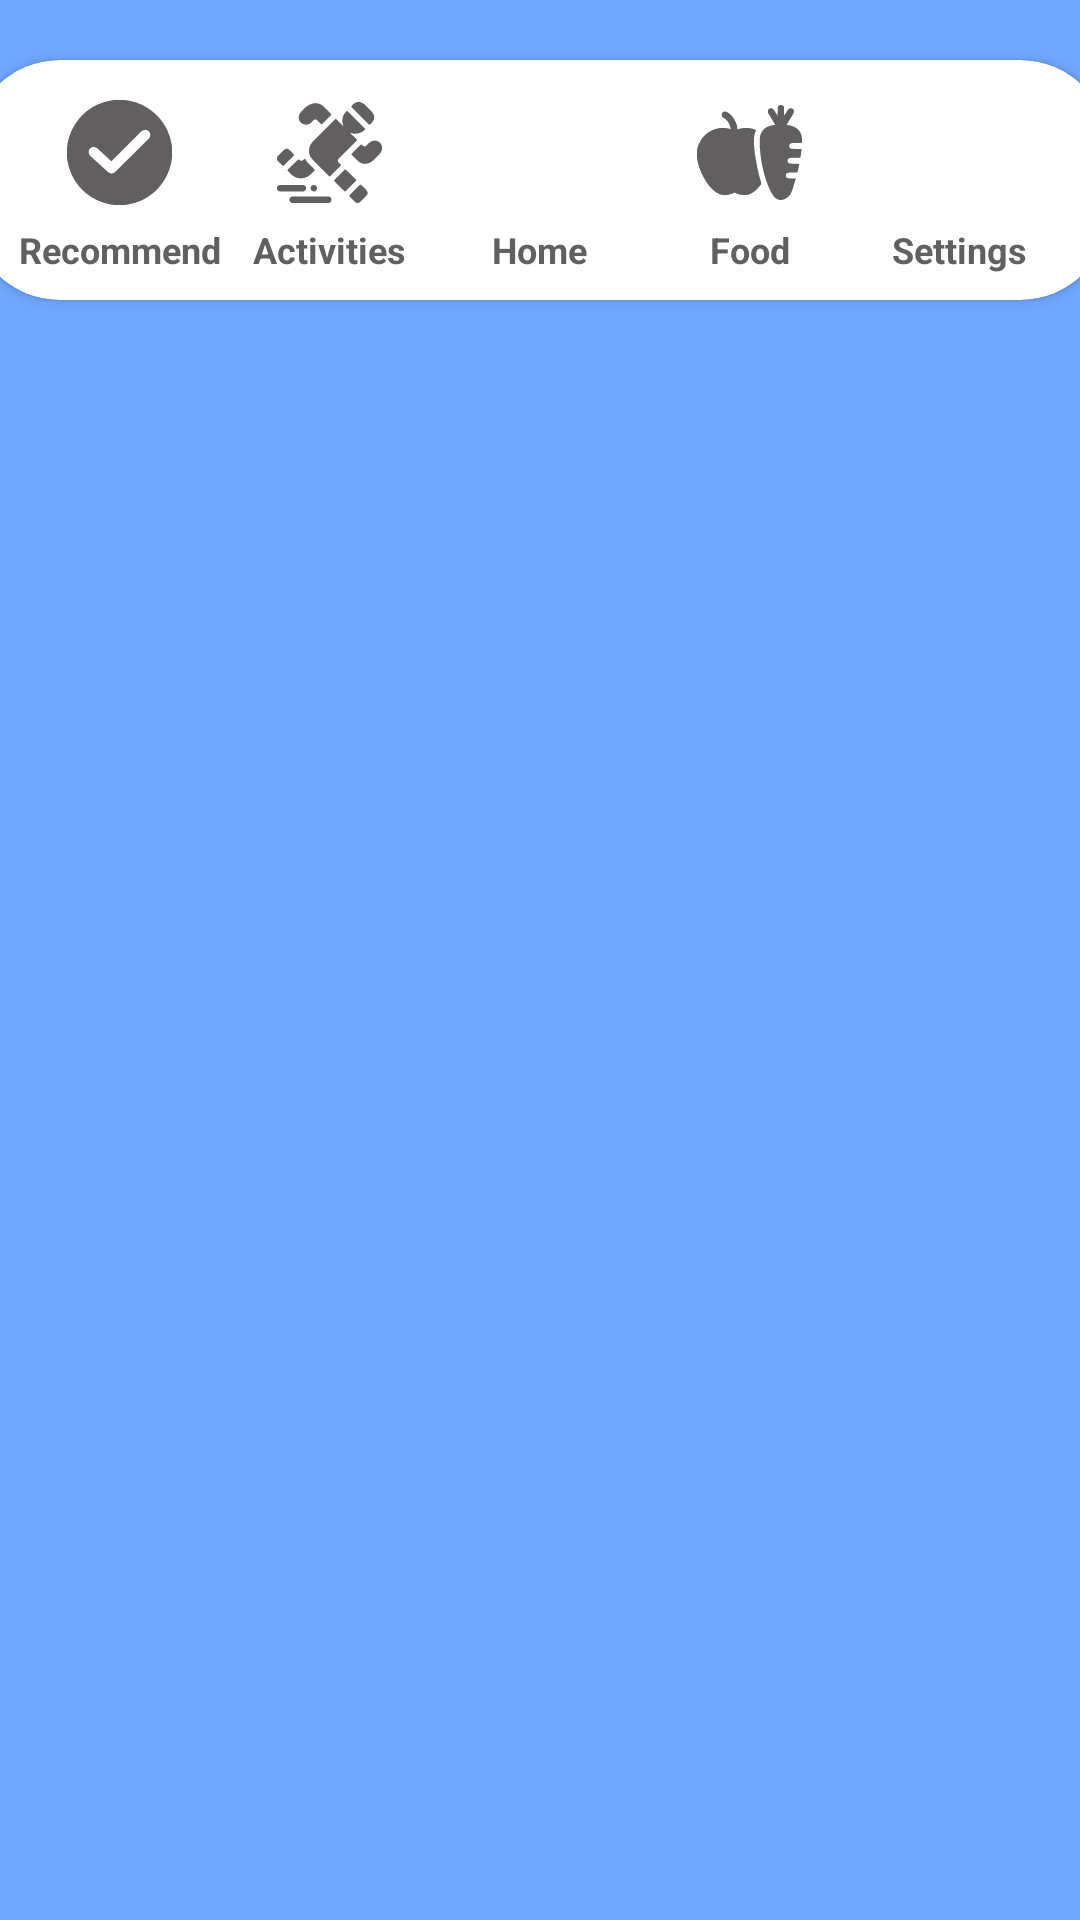

Where to tap for icons on this 1080px x 1920px app screen, as [x,y]:
checked: [119,152]
nutrition: [749,152]
runner: [329,152]
